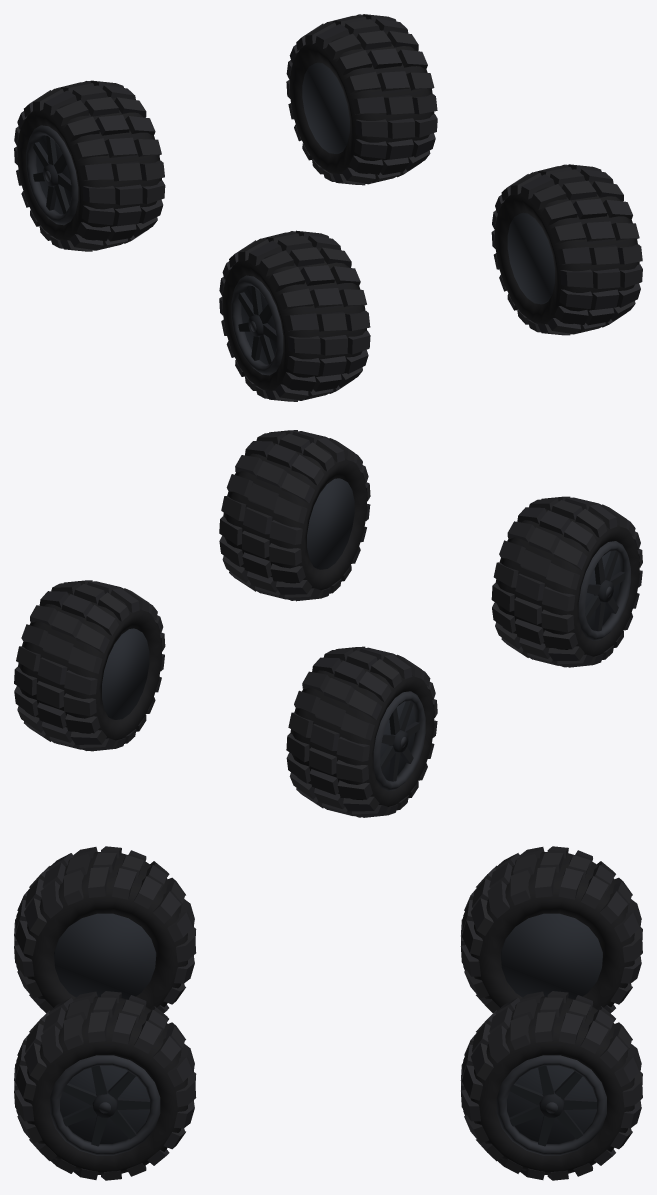
File: OffroadKart_Wheels.glb
3 renders of one model, top to bottom at view 1: azimuth 30°, elevation 25°; view 2: azimuth 150°, elevation 25°; view 3: azimuth 270°, elevation 25°, orthographic. The views are drawn at different scales.
Visible parts, largest first — view 1: Wheel_FL, Wheel_RL, Wheel_RR, Wheel_FR; view 2: Wheel_FR, Wheel_RR, Wheel_RL, Wheel_FL; view 3: Wheel_FL, Wheel_RL, Wheel_RR, Wheel_FR.
Boxes of the visible parts, box(x1,y1,x2,y2) form: Wheel_FL: box(491, 164, 642, 335); Wheel_RL: box(286, 14, 437, 185); Wheel_RR: box(14, 80, 165, 251); Wheel_FR: box(219, 230, 370, 401); Wheel_FR: box(491, 496, 642, 667); Wheel_RR: box(286, 646, 437, 817); Wheel_RL: box(14, 580, 165, 751); Wheel_FL: box(219, 430, 370, 601); Wheel_FL: box(14, 991, 196, 1180); Wheel_RL: box(460, 991, 642, 1180); Wheel_RR: box(460, 846, 642, 1013); Wheel_FR: box(14, 846, 196, 1013).
Bounding box in the file's own units: 7.77 × 3.16 × 10.92.
1 material, 1 textured.
